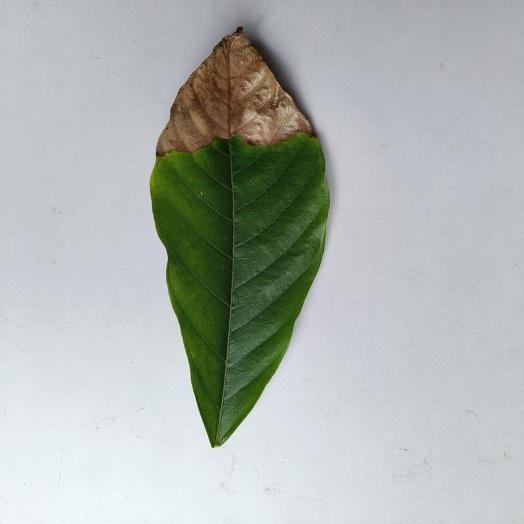Potassium: (150, 28, 329, 445)
